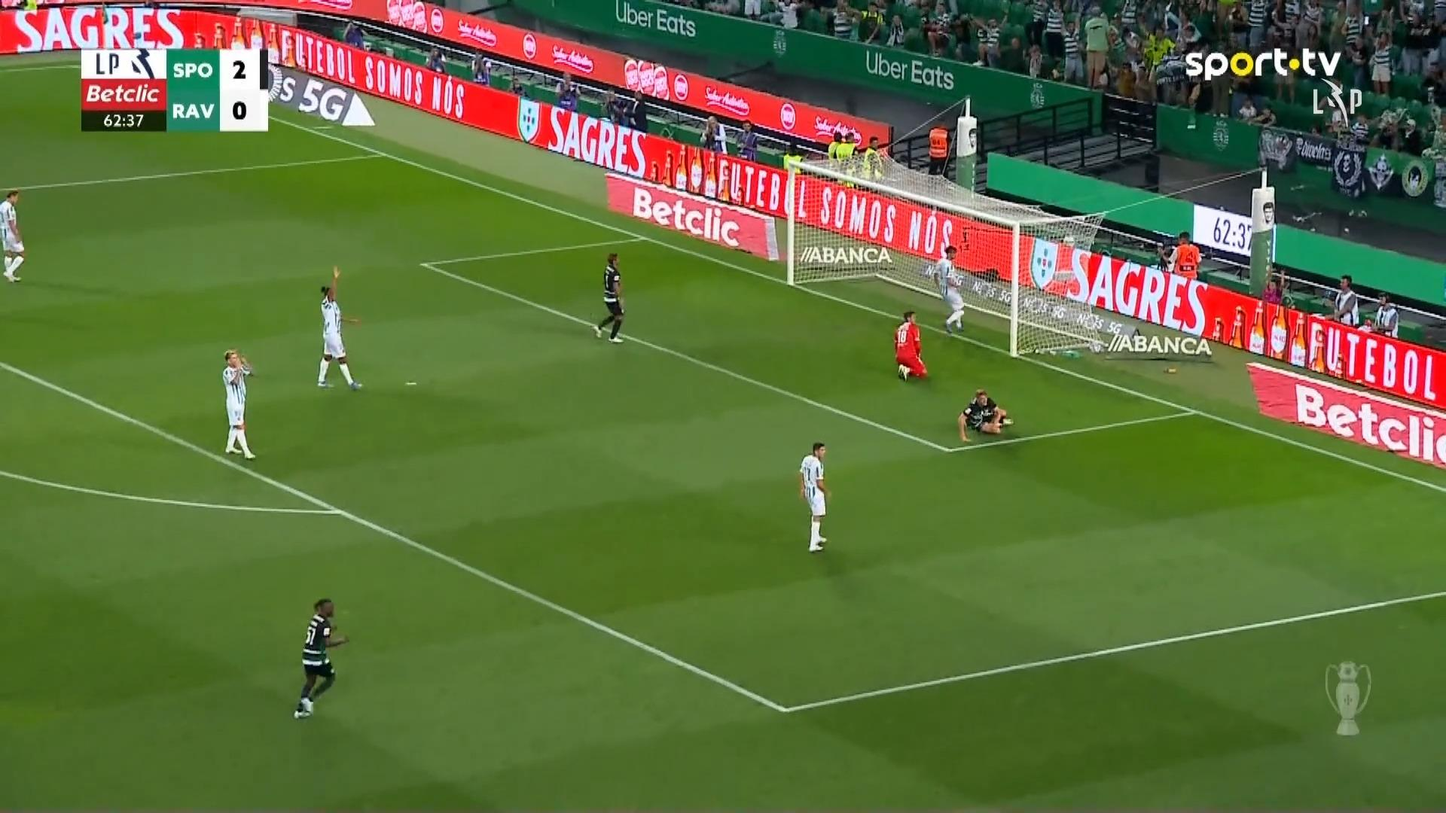goalkeeper: (892, 309, 929, 381)
player: (292, 598, 349, 719), (316, 265, 363, 390), (221, 349, 256, 460), (926, 244, 966, 334), (798, 441, 829, 553), (957, 388, 1012, 442), (593, 251, 625, 343), (0, 189, 25, 282)
